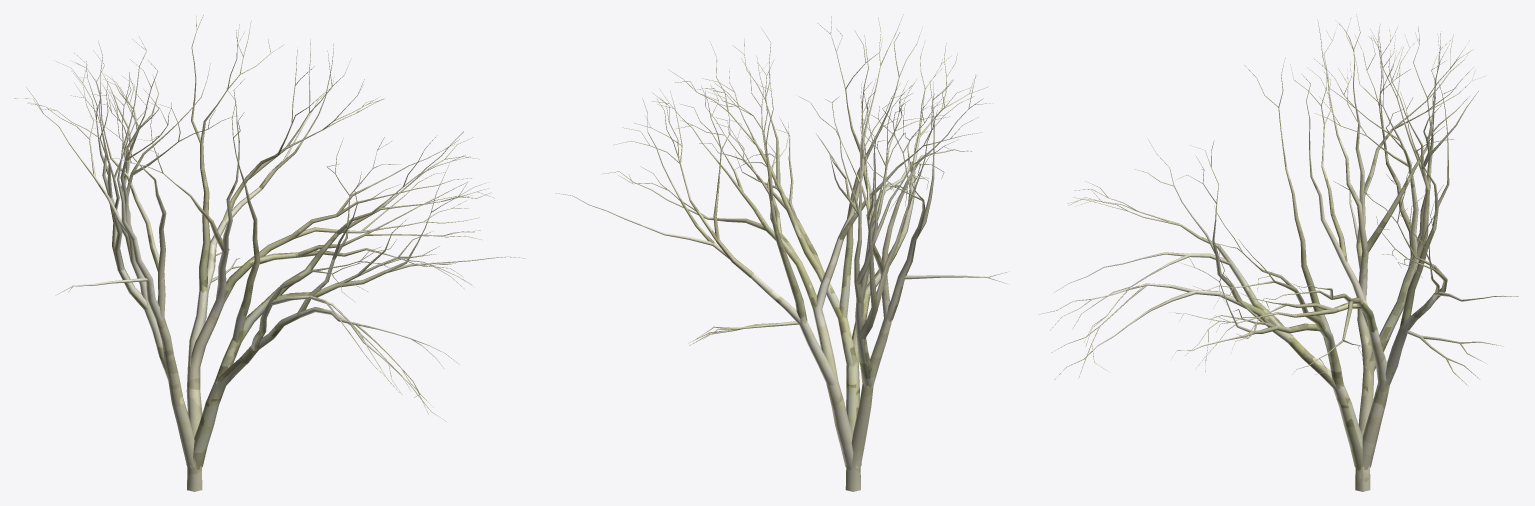
File: SM_SukuraB_Bark.fbx
3 views of the same model, side by side, from view 1: azimuth 30°, elevation 25°; view 2: azimuth 150°, elevation 25°; view 3: azimuth 270°, elevation 25° (orthographic).
Parts seen in each view (by area): view 1: SM_SukuraB_Bark; view 2: SM_SukuraB_Bark; view 3: SM_SukuraB_Bark.
Boxes of the visible parts, bbox=[...] form: SM_SukuraB_Bark: bbox=[14, 15, 525, 491]; SM_SukuraB_Bark: bbox=[555, 14, 1008, 491]; SM_SukuraB_Bark: bbox=[1038, 14, 1518, 491].
Bounding box in the file's own units: 7.87 × 8.11 × 8.24.
